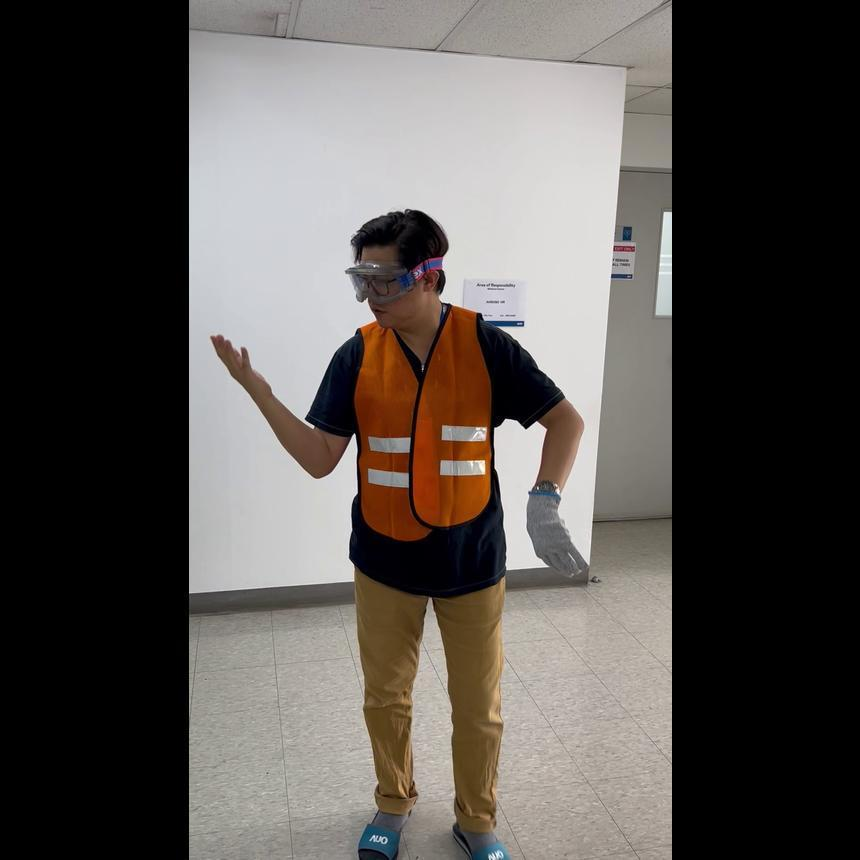Gloves: (518, 482, 588, 579)
No-gloves: (206, 324, 255, 392)
